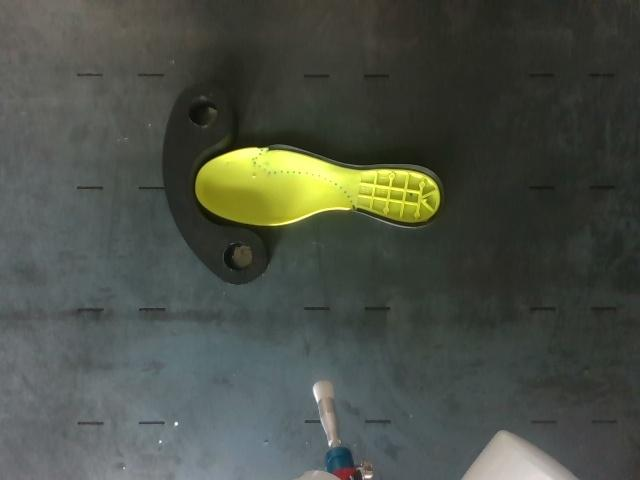shoes: (196, 145, 445, 228)
